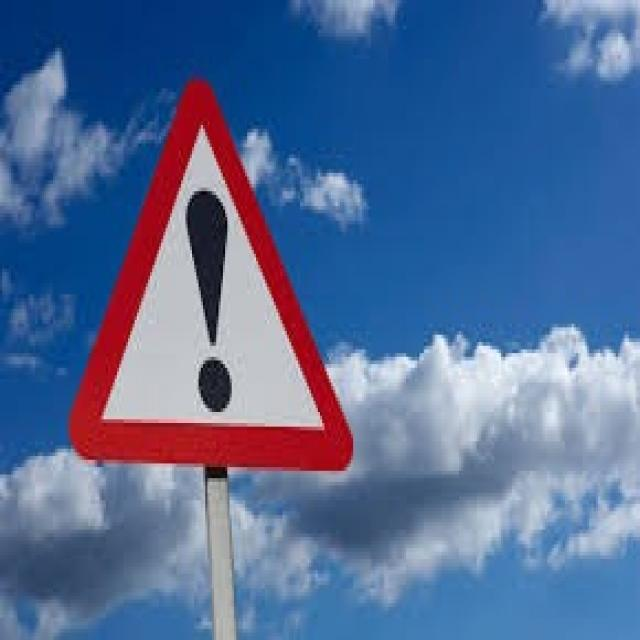warning: (65, 57, 363, 489)
